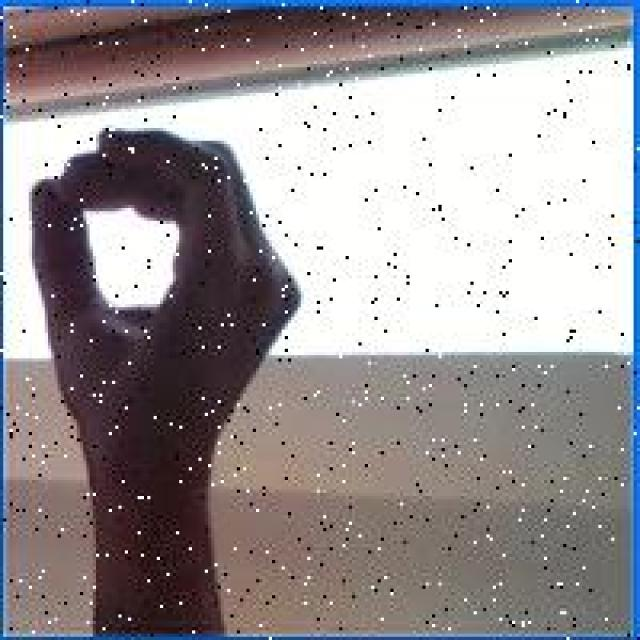O: (22, 109, 314, 445)
